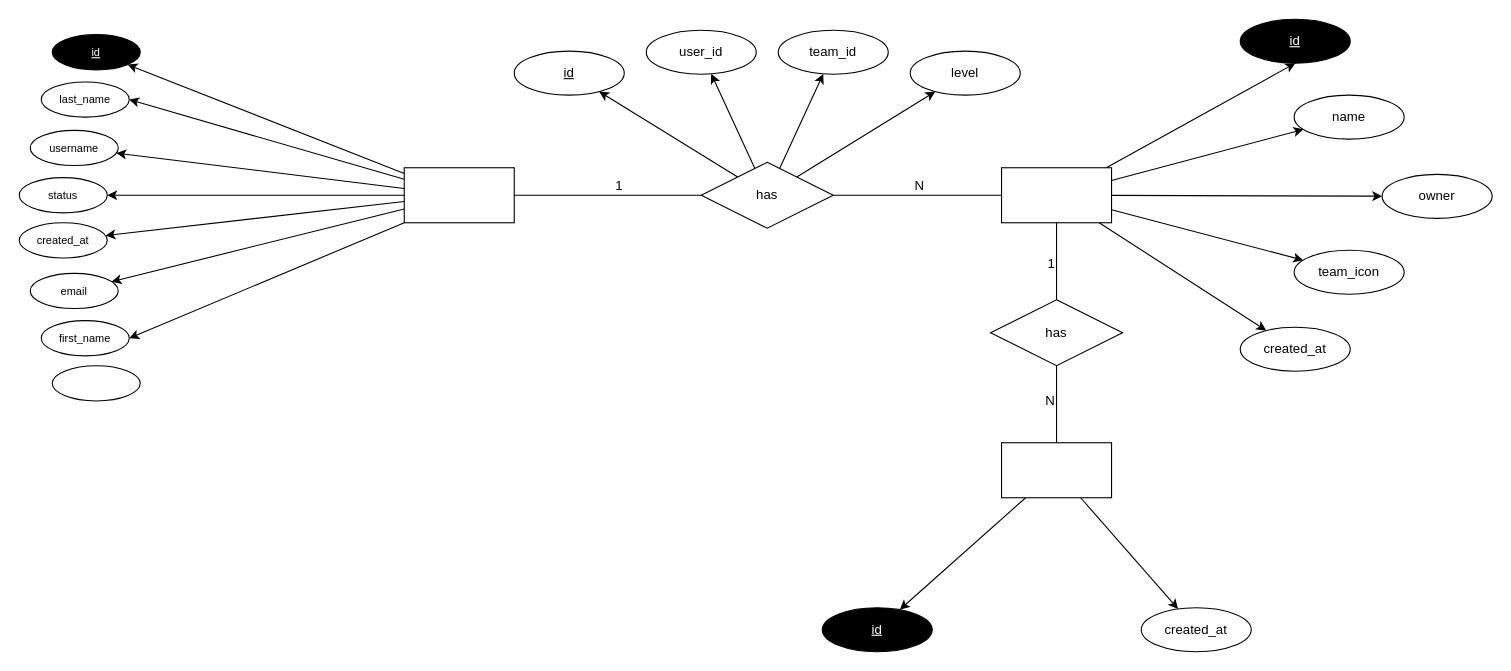
This 1511x671 diagram has some shape labels left out. The centre of each missing label's shape, as x and y in pixels:
board: point 1056,470
profile_picture: point 95,383
team: point 1056,195
user: point 458,195
